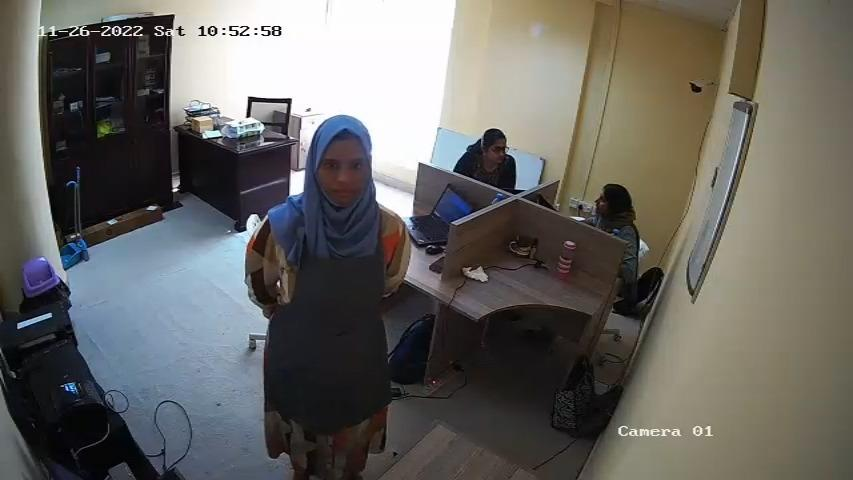apron: (268, 206, 390, 424)
